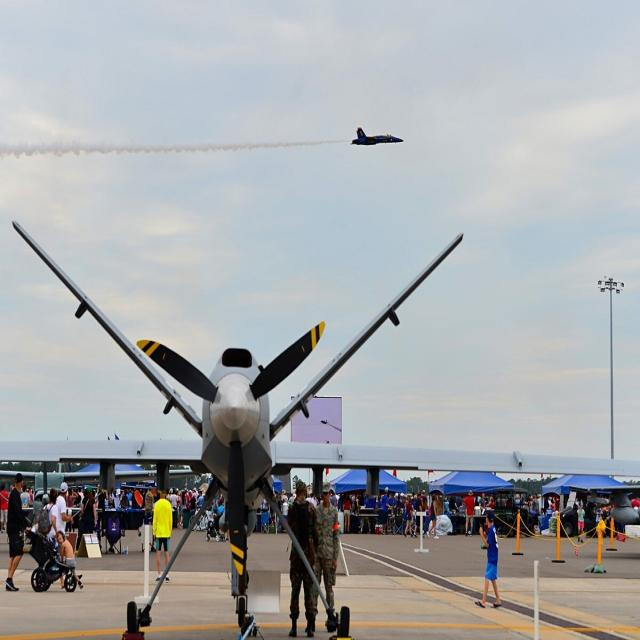MIL_Plane: (0, 220, 640, 637), (350, 127, 404, 146)
